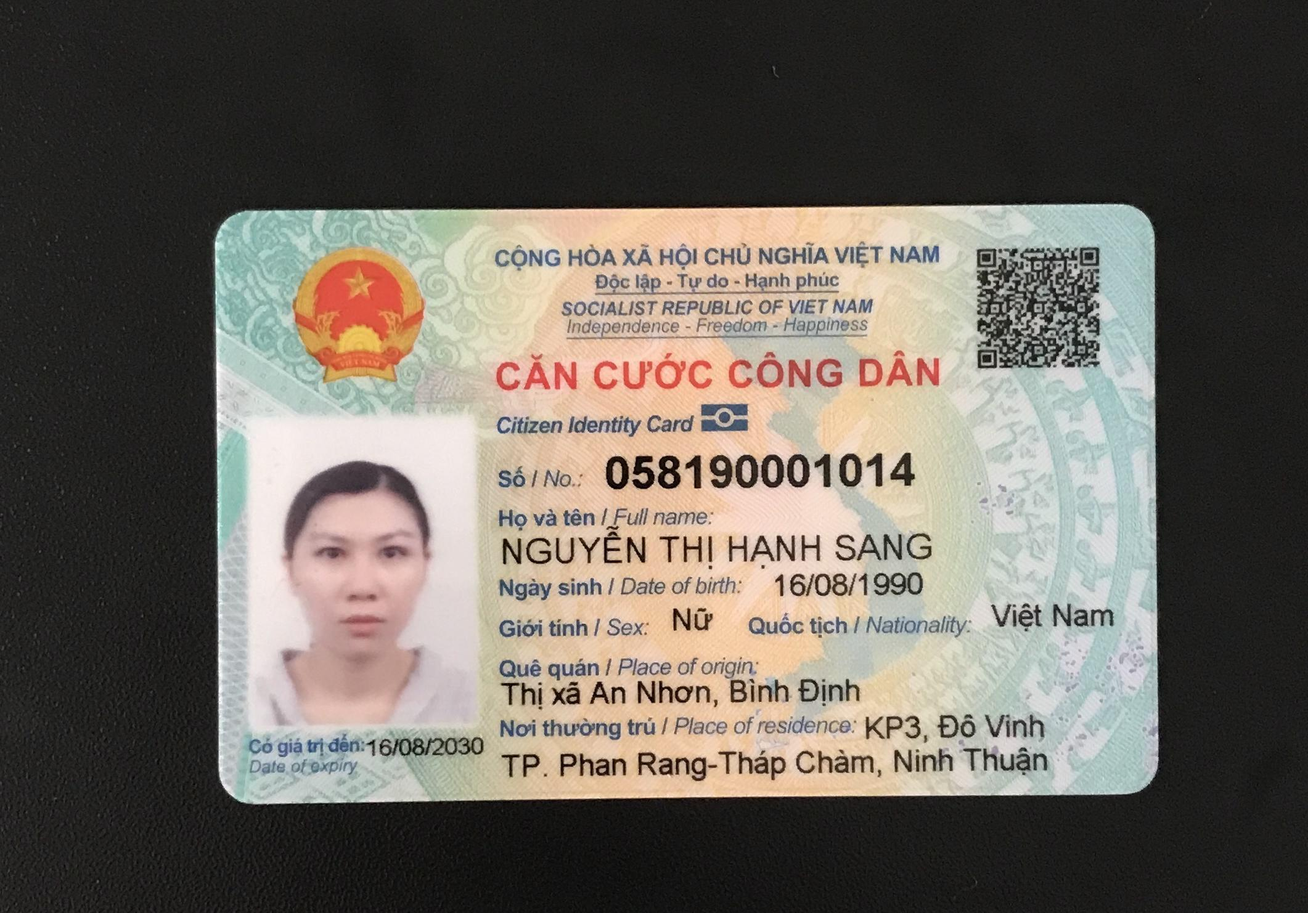ID: (601, 444, 923, 499)
birth: (767, 566, 925, 603)
name: (491, 528, 941, 573)
place: (491, 670, 880, 712)
residence: (489, 738, 1064, 794), (850, 704, 1054, 746), (1063, 745, 1066, 752)
